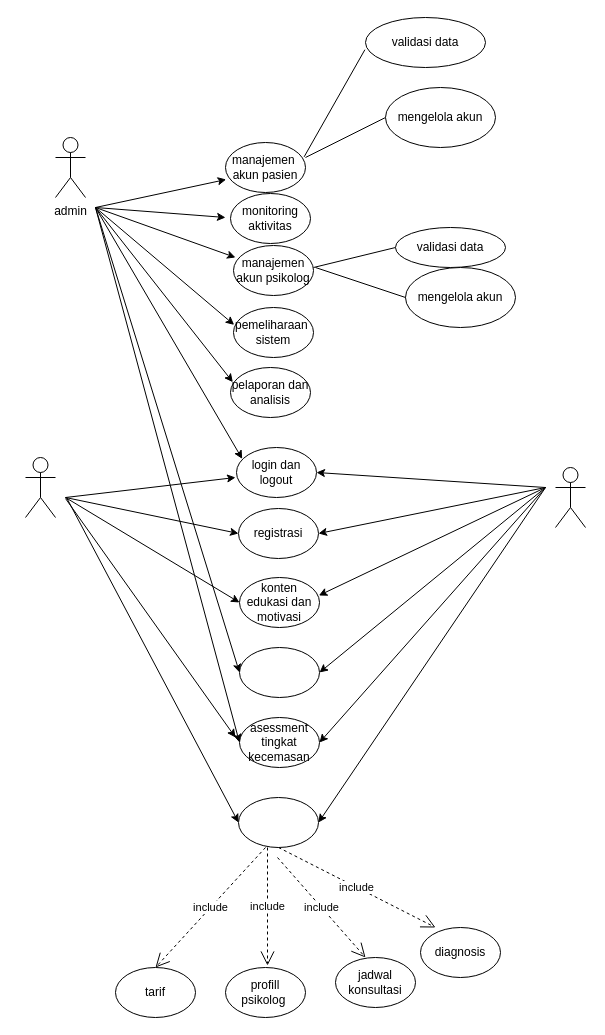
Some shapes in this 605 by 1035 pixel diagram are drawn without their labels. The box of each missing label's shape, as (x1, y1, x2, y2) in pixels:
anonymous chat: (238, 646, 320, 698)
konsultasi: (238, 796, 318, 848)
pasien: (554, 466, 586, 528)
psikolog: (24, 456, 56, 518)
